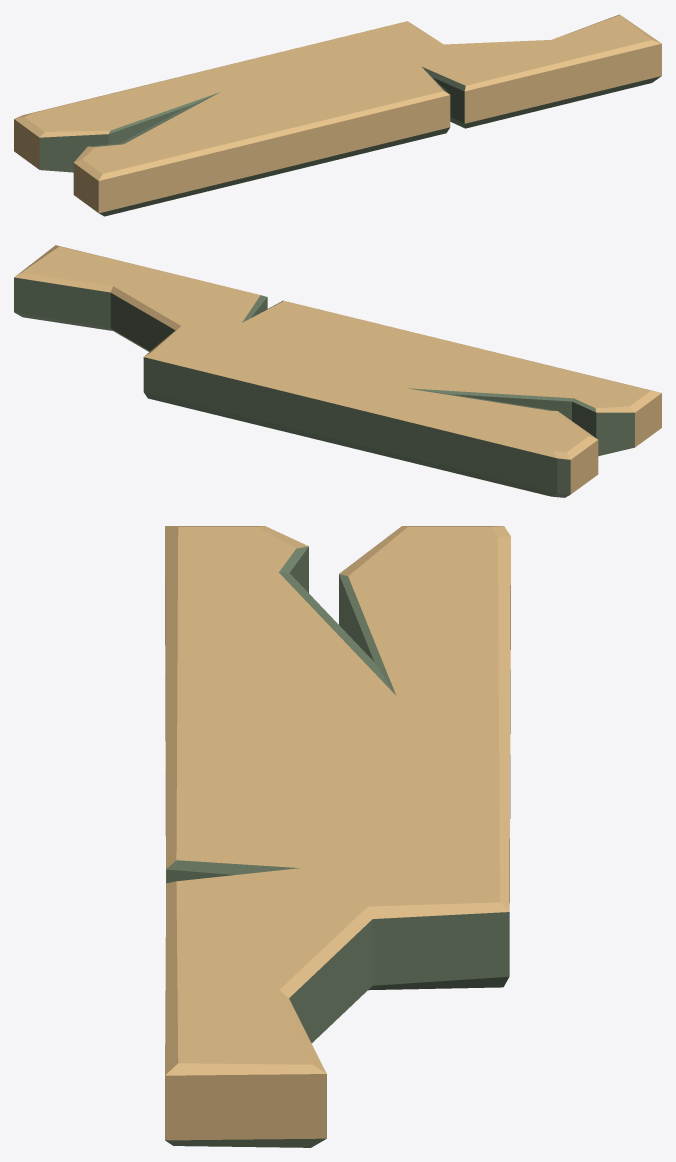
Rendered from Plank_1.glb.
3 views of the same model, one above another, from view 1: azimuth 30°, elevation 25°; view 2: azimuth 150°, elevation 25°; view 3: azimuth 270°, elevation 25° (orthographic). The views are drawn at different scales.
Parts seen in each view (by area): view 1: Plank; view 2: Plank; view 3: Plank.
Boxes of the visible parts, x1,y1,x2,y2 form: Plank: (14,14,661,216); Plank: (14,245,661,497); Plank: (165,526,510,1147).
Bounding box in the file's own units: 1 × 0.0709 × 0.2661.
